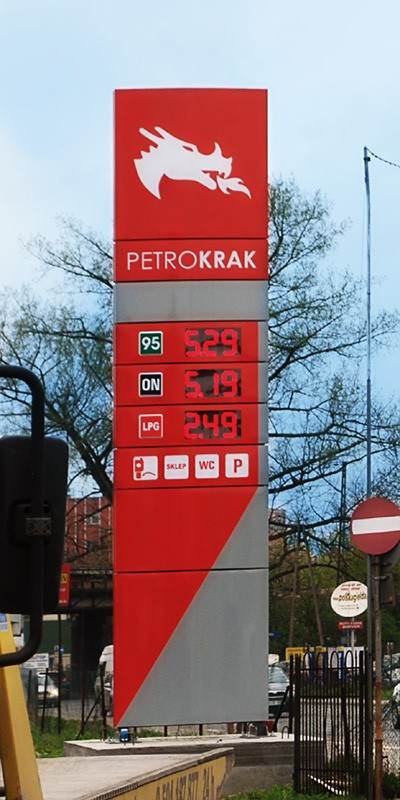LPG: (136, 411, 164, 442)
ON: (136, 368, 164, 398)
PB95: (136, 327, 163, 360)
